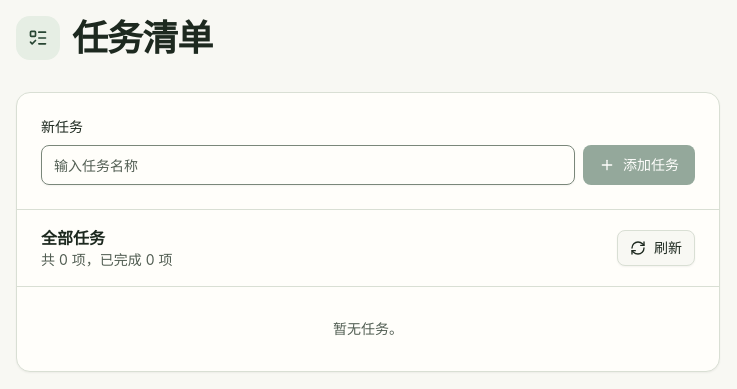
Test case: TasksPage › submits the trimmed title and clears the input
In the field labelled "新任务": point(308, 165) [41,145,575,185], type "  新任务  "
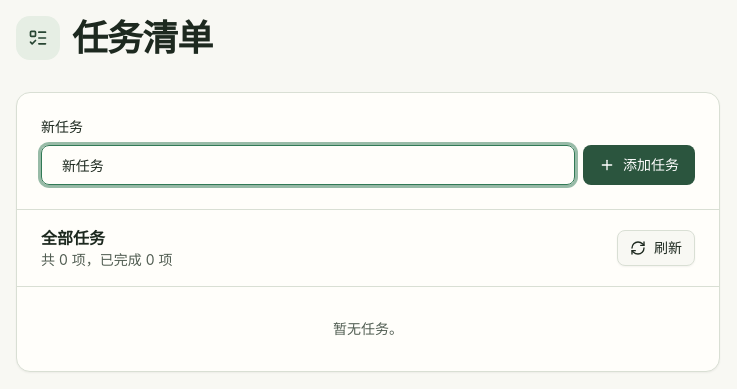
Click the button "添加任务": point(639, 165) [583,145,695,185]
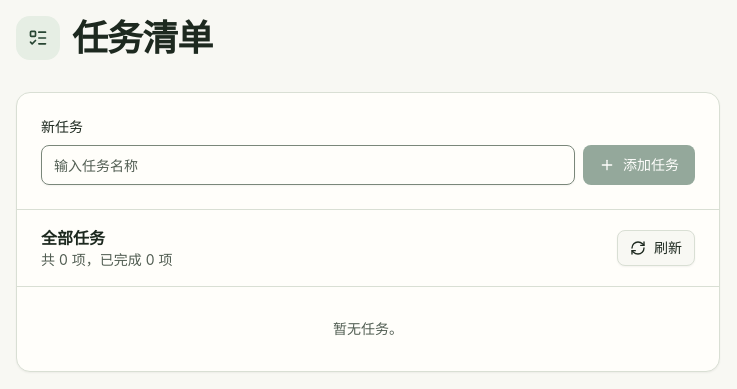
Expected: the field labelled "新任务" is empty, [41,145,575,185]
